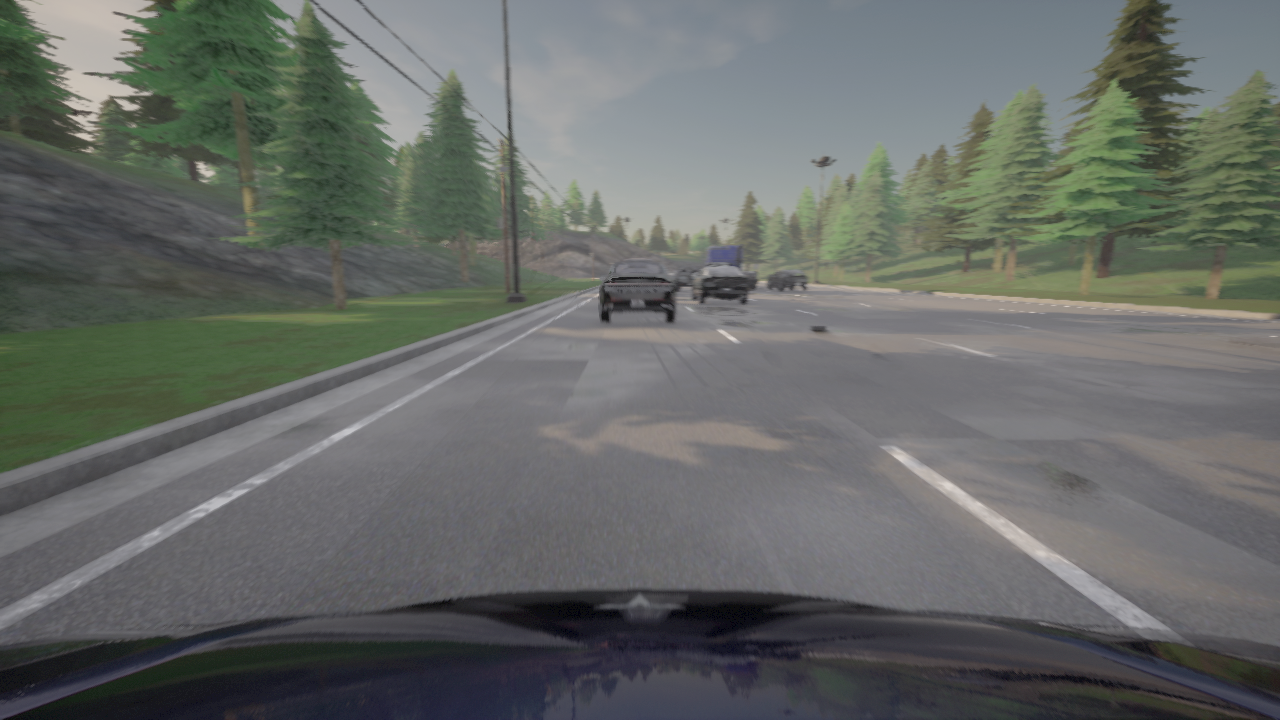cyclist: (0, 588, 1279, 719), (600, 261, 676, 322), (702, 244, 757, 289), (692, 263, 748, 303), (767, 268, 808, 290), (673, 264, 700, 290), (623, 258, 651, 261)
